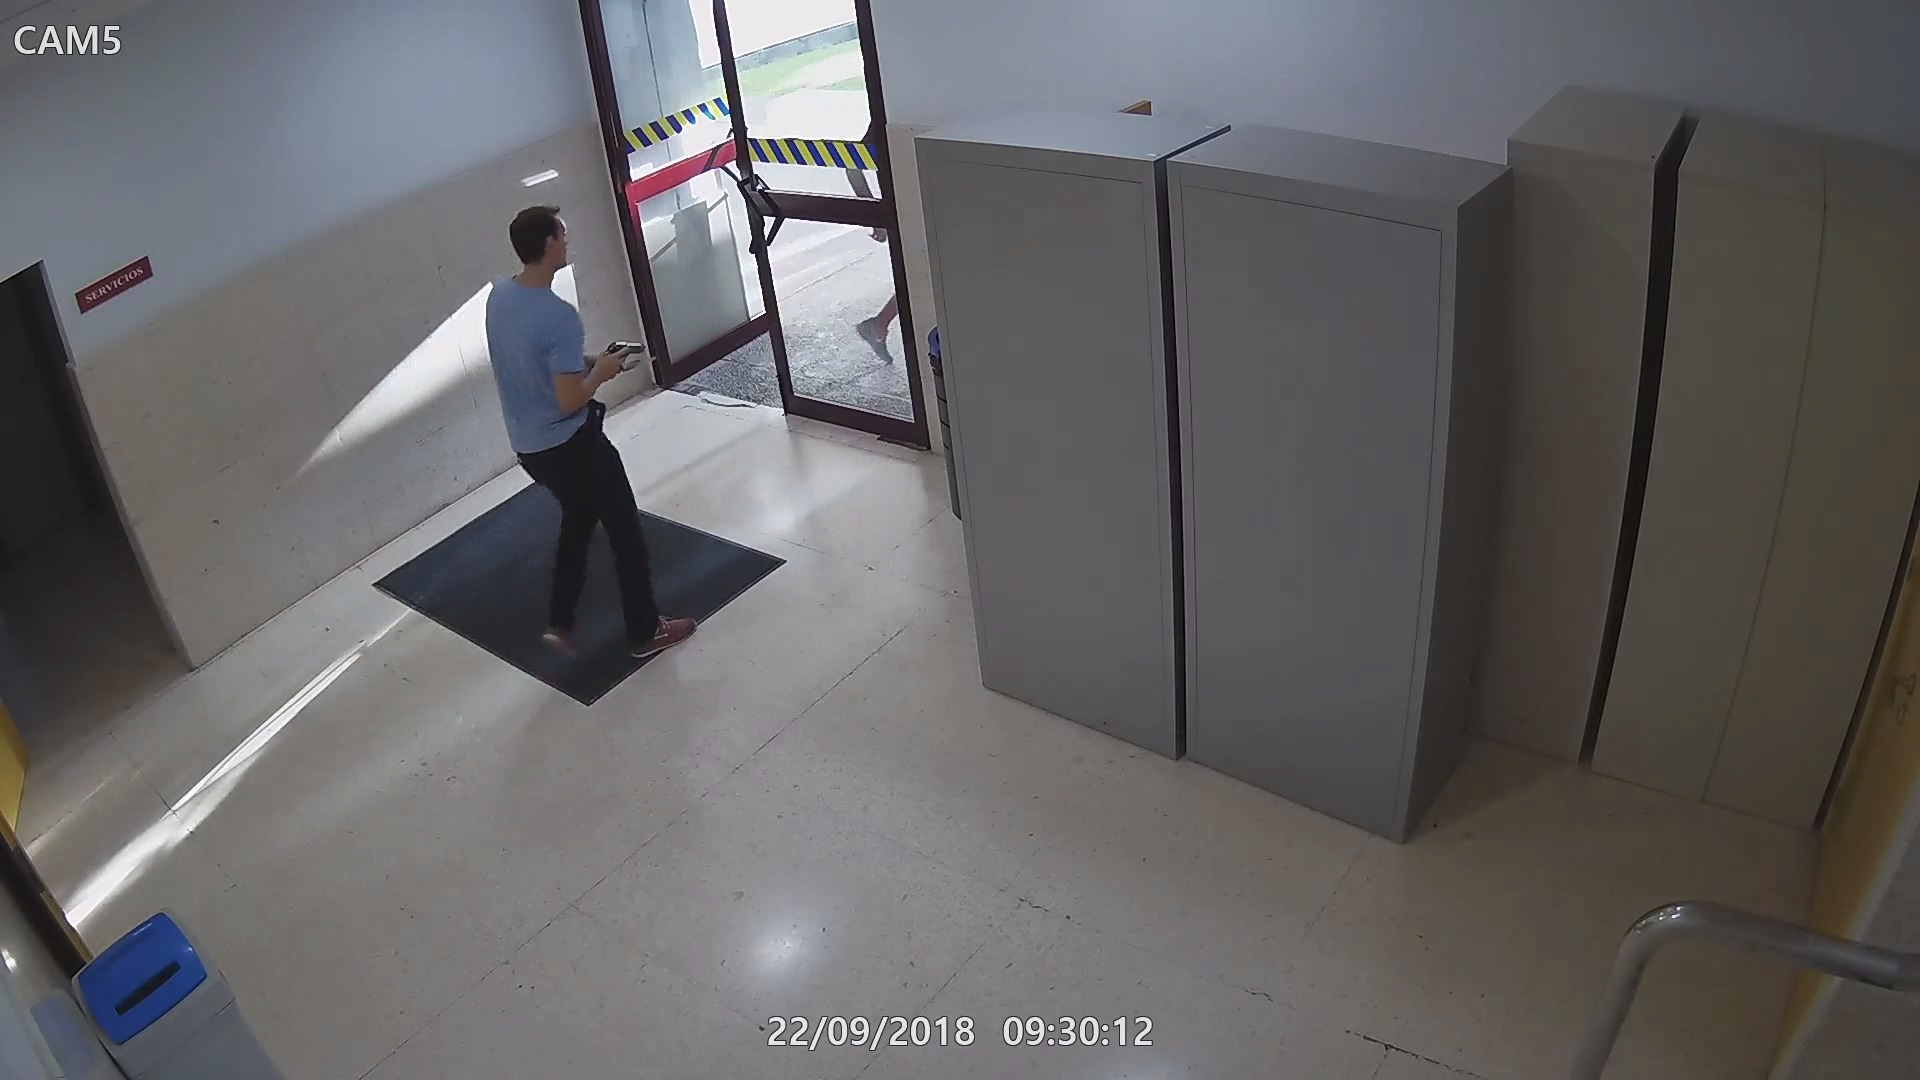Handgun: (591, 338, 658, 382)
Knife: (609, 347, 655, 375)
